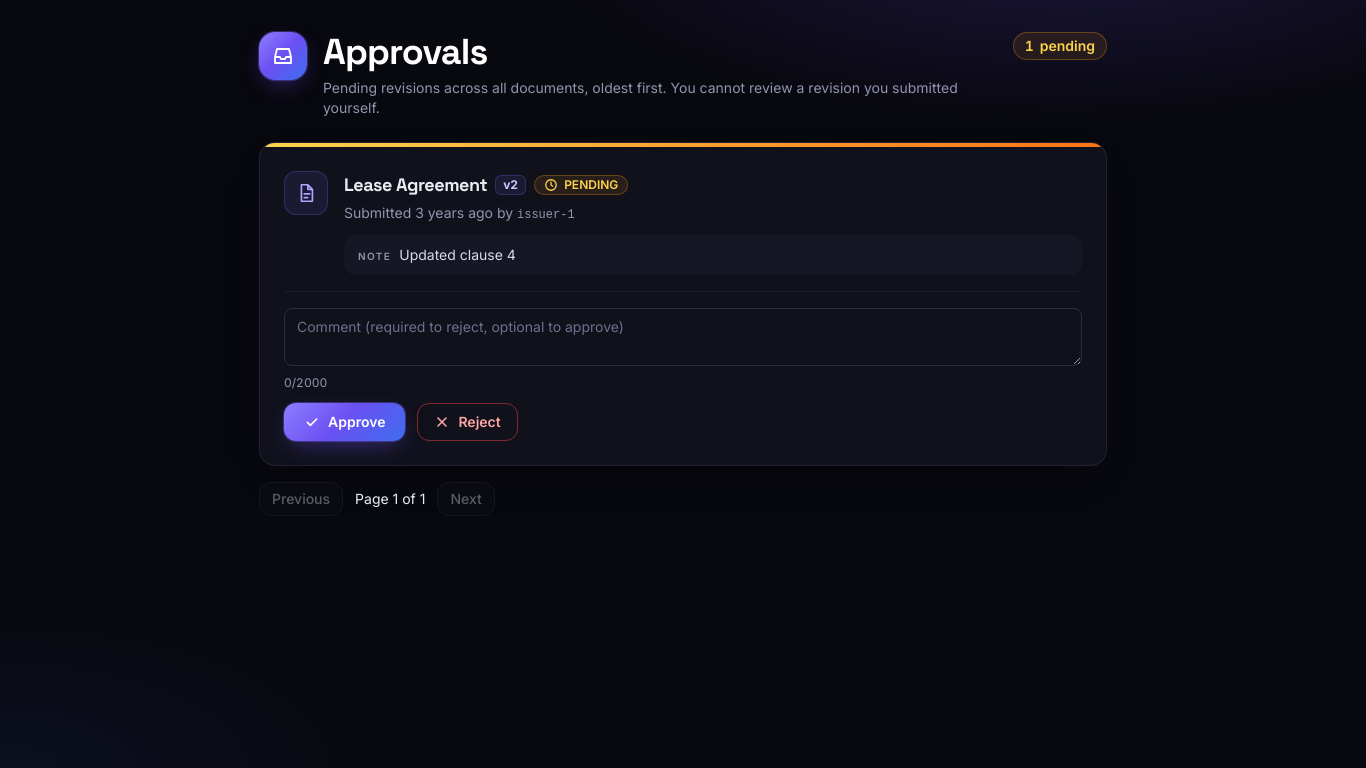
Test case: ApprovalsQueue › approves with an optional comment and shows an anchoring-in-progress message
The image size is (1366, 768).
Click the button "Approve" at (345, 422), box [284,403,405,441]
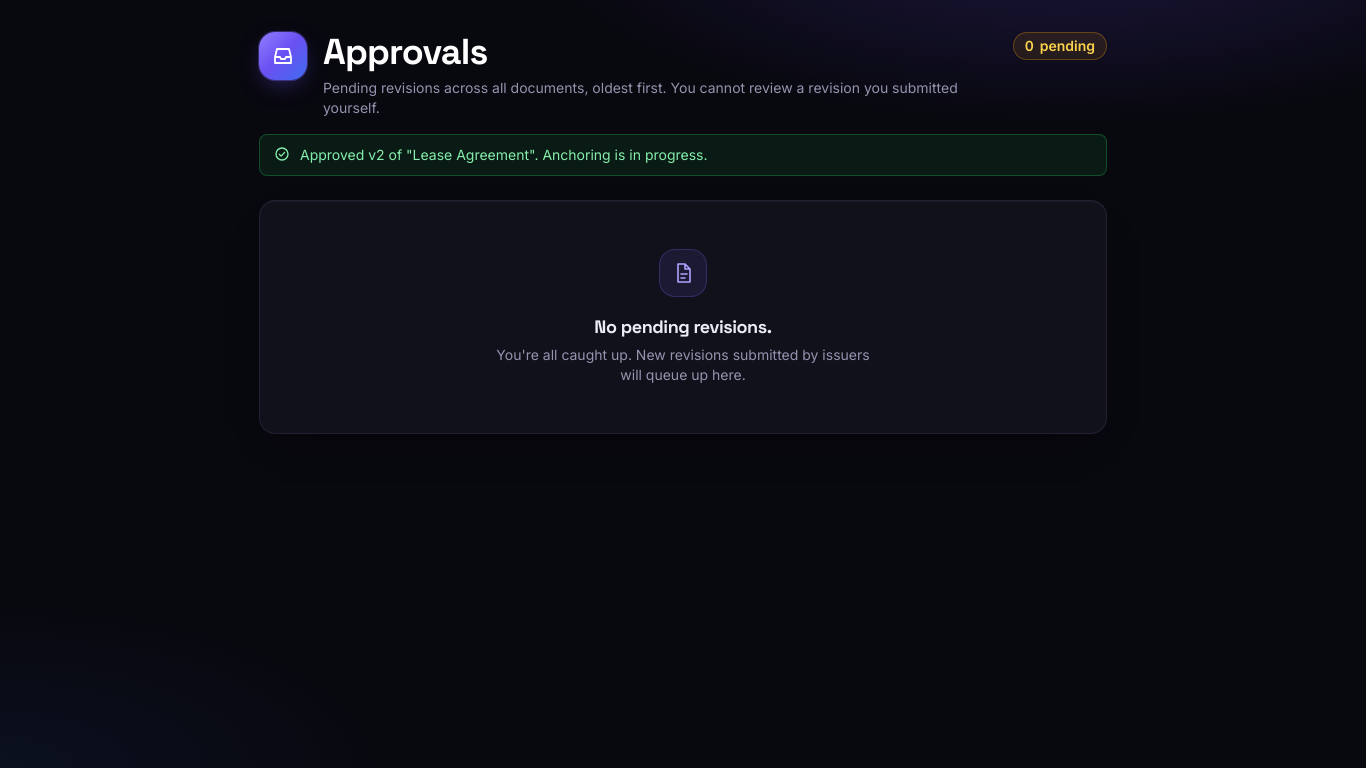
Expected: the text "Approved v2 of \"Lease Agreement\". Anchoring is in progress." is shown, [300,145,708,165]
